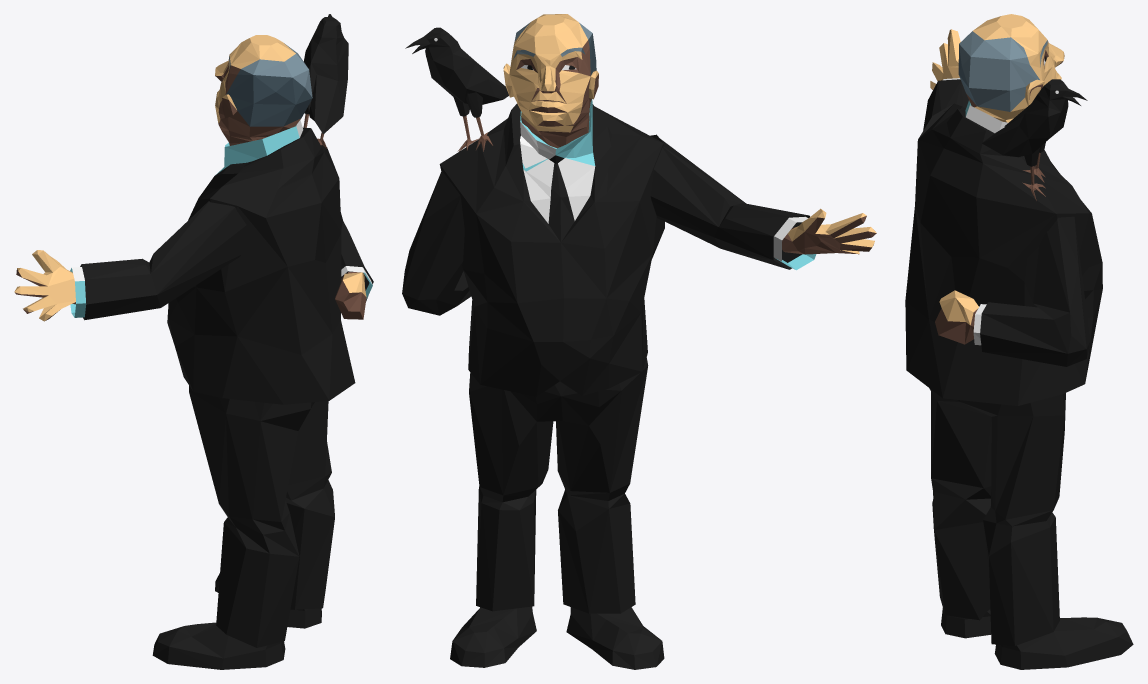
File: cubo14.gltf
The picture shows the model from 3 angles, left to right: view 1: azimuth 30°, elevation 25°; view 2: azimuth 150°, elevation 25°; view 3: azimuth 270°, elevation 25°; orthographic projection. The views are drawn at different scales.
Parts seen in each view (by area): view 1: group1691929210; view 2: group1691929210; view 3: group1691929210.
Boxes of the visible parts, x1,y1,x2,y2 form: group1691929210: [14, 14, 373, 669]; group1691929210: [402, 14, 876, 669]; group1691929210: [905, 14, 1133, 669].
Size of the model in its own units: 0.5389 by 0.7765 by 0.2583.
